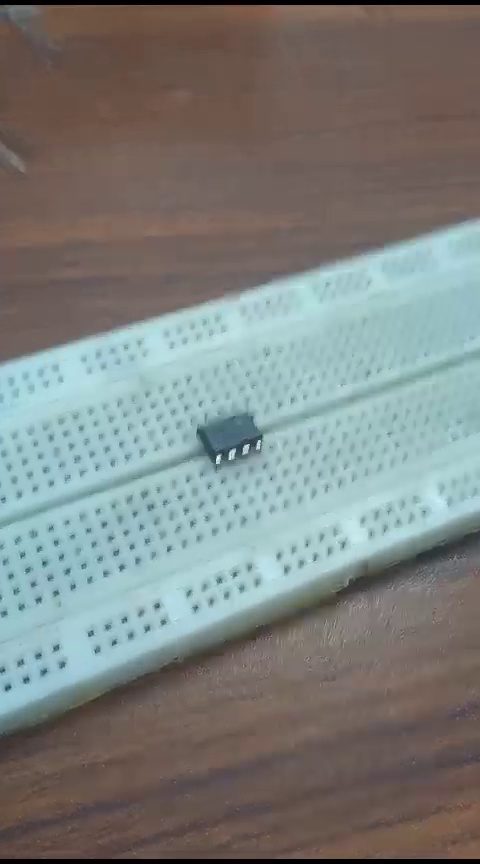IC: (188, 419, 271, 455)
